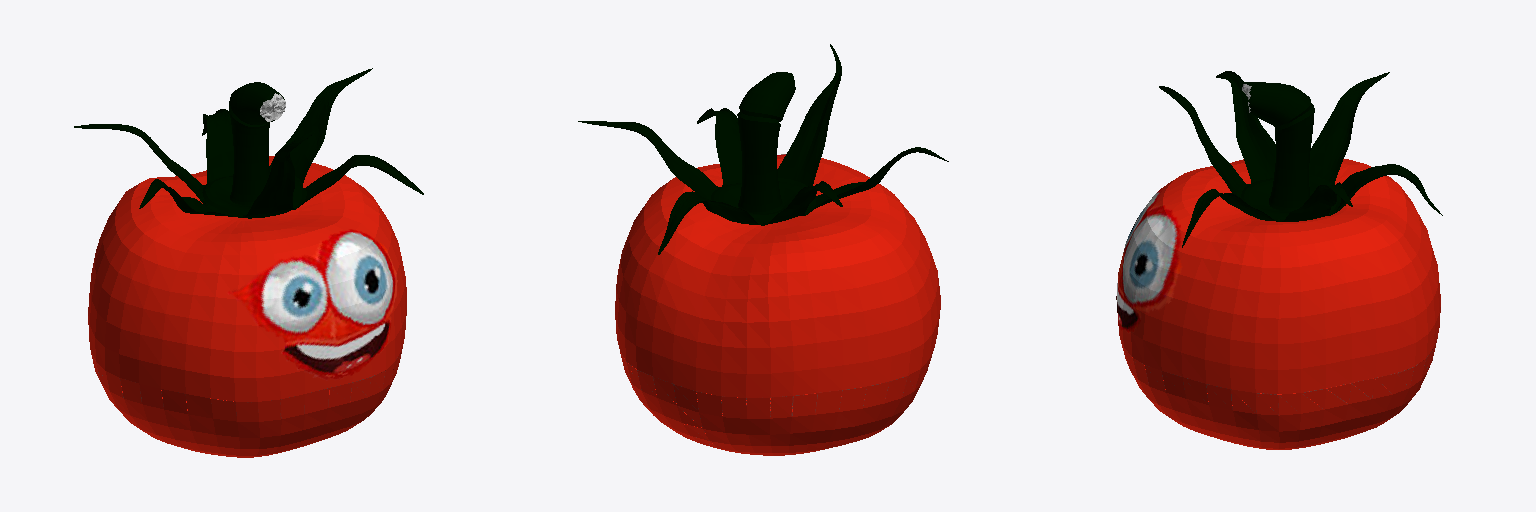
The picture shows the model from 3 angles: view 1: azimuth 30°, elevation 25°; view 2: azimuth 150°, elevation 25°; view 3: azimuth 270°, elevation 25°; orthographic projection.
Visible parts, largest first — view 1: tomat06; view 2: tomat06; view 3: tomat06.
Boxes of the visible parts, box(x1,y1,x2,y2) form: tomat06: box(74, 68, 423, 457); tomat06: box(578, 44, 948, 455); tomat06: box(1116, 71, 1442, 449).
Size of the model in its own units: 25.91 by 27.76 by 23.89.
3 materials, 1 textured.